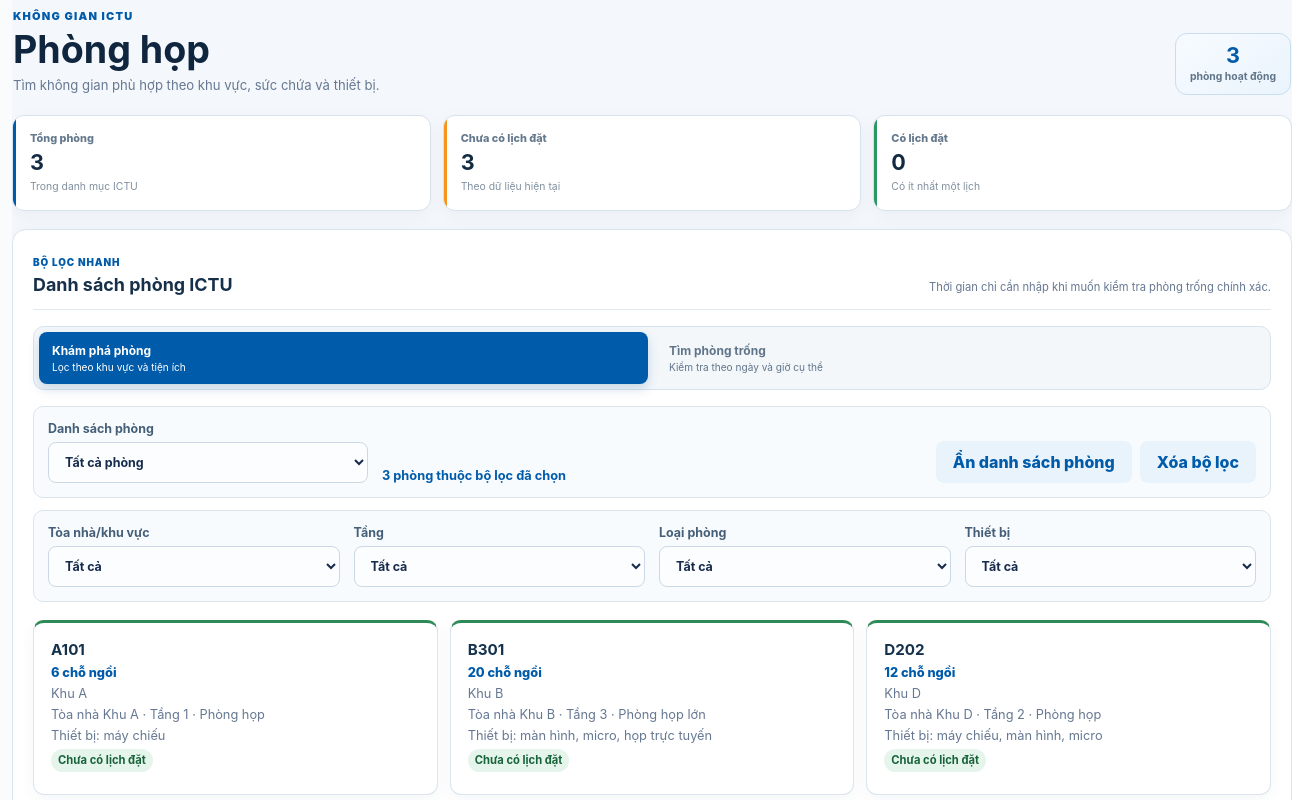
Test case: RoomDirectory filters › filters the catalog by equipment
Expected: the text "A101" is shown, [51,640,85,659]
Select "Họp trực tuyến" in the dropdown labelled "Thiết bị" at (1110, 566), box [964,546,1256,587]
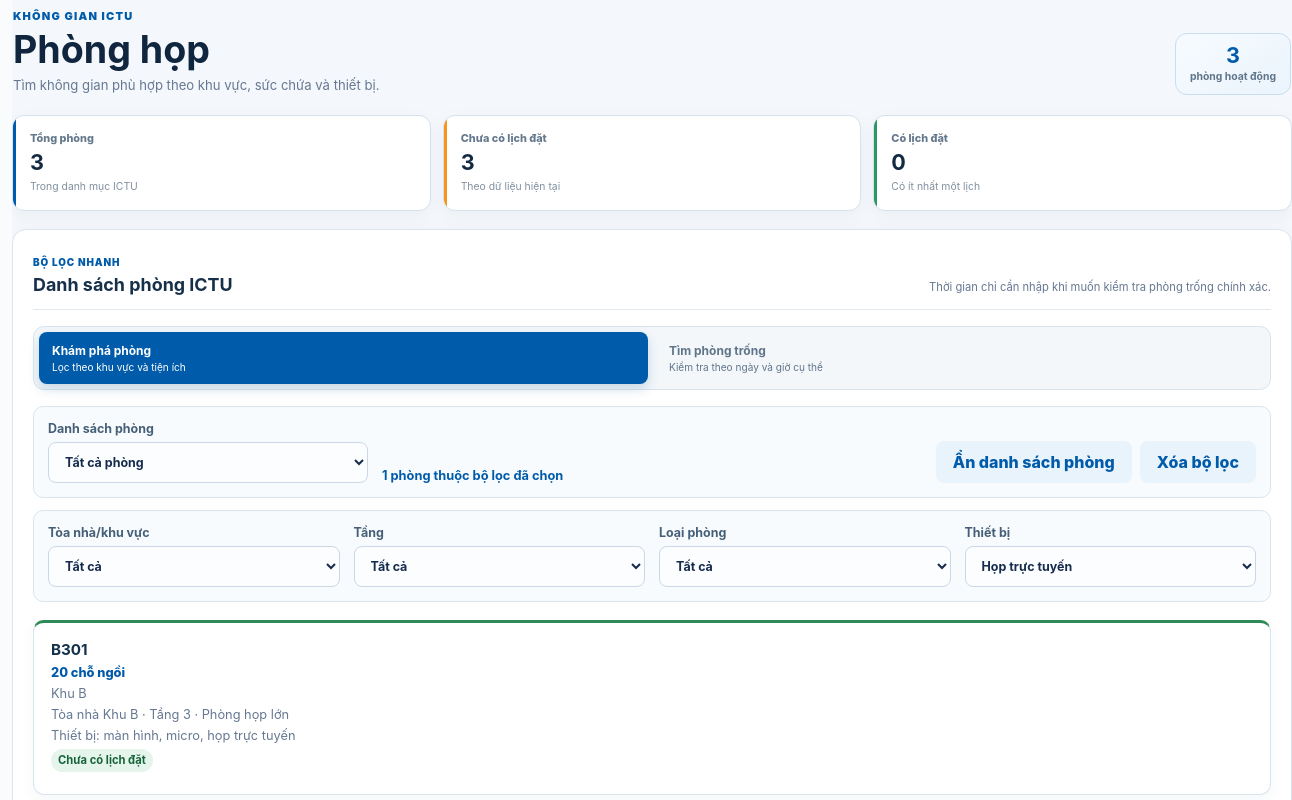
Expected: the text "B301" is shown, [51,640,88,659]
Result: the text "A101" is gone
